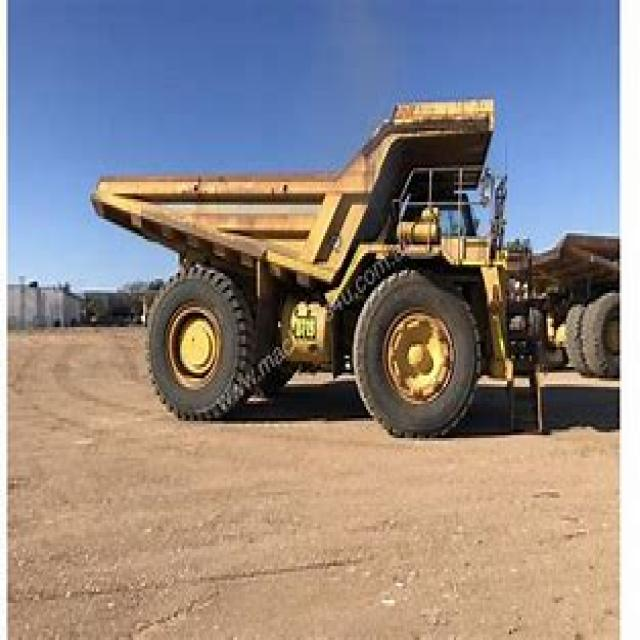dump_truck: (84, 88, 548, 441)
